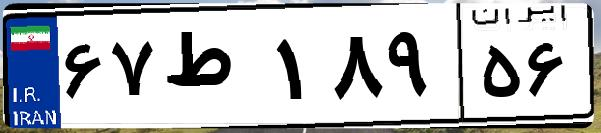1: (270, 28, 330, 110)
5: (475, 38, 525, 113)
6: (57, 26, 110, 100), (525, 38, 570, 115)
7: (110, 28, 158, 98)
8: (330, 28, 385, 110)
9: (385, 28, 445, 110)
ط: (158, 20, 270, 120)
